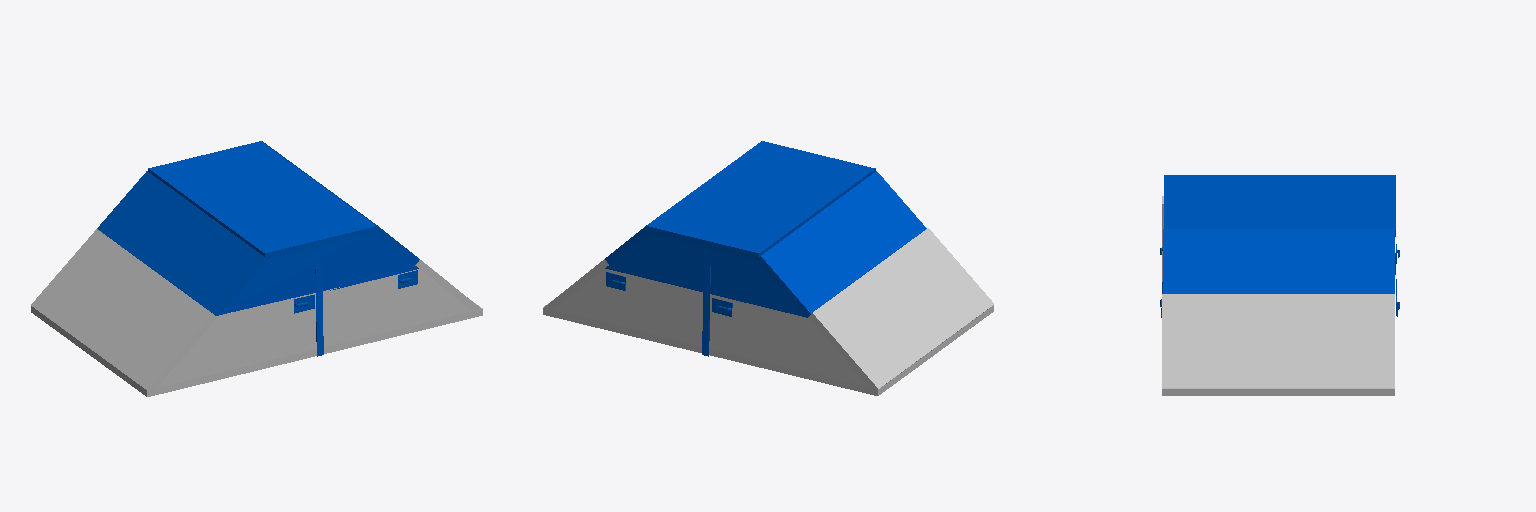
File: modernauto.obj
The picture shows the model from 3 angles: view 1: azimuth 30°, elevation 25°; view 2: azimuth 150°, elevation 25°; view 3: azimuth 270°, elevation 25°; orthographic projection.
Parts seen in each view (by area): view 1: Cube.001, Kocka.001, Cube, Kocka, Kocka.003, Cube.002, Kocka.004, Cube.004, Kocka.002; view 2: Cube.001, Kocka.001, Cube.003, Kocka, Kocka.010, Cube.002, Kocka.009, Cube.004; view 3: Cube.004, Kocka.002, Kocka.001, Cube.002.
Boxes of the visible parts, <box> form: Cube.001: <box>31,229,216,389</box>; Kocka.001: <box>148,141,376,259</box>; Cube: <box>157,269,471,387</box>; Kocka: <box>97,171,266,315</box>; Kocka.003: <box>220,233,418,314</box>; Cube.002: <box>31,300,482,396</box>; Kocka.004: <box>315,247,323,356</box>; Cube.004: <box>415,260,480,314</box>; Kocka.002: <box>261,141,419,264</box>; Cube.001: <box>808,228,993,391</box>; Kocka.001: <box>646,141,875,259</box>; Cube.003: <box>554,269,867,386</box>; Kocka: <box>757,171,926,317</box>; Kocka.010: <box>605,234,804,316</box>; Cube.002: <box>543,300,993,395</box>; Kocka.009: <box>702,247,710,356</box>; Cube.004: <box>544,259,608,309</box>; Cube.004: <box>1162,294,1394,387</box>; Kocka.002: <box>1163,229,1394,293</box>; Kocka.001: <box>1164,175,1395,236</box>; Cube.002: <box>1162,388,1394,395</box>.
Bounding box in the file's own units: 10.02 × 3.28 × 6.18.